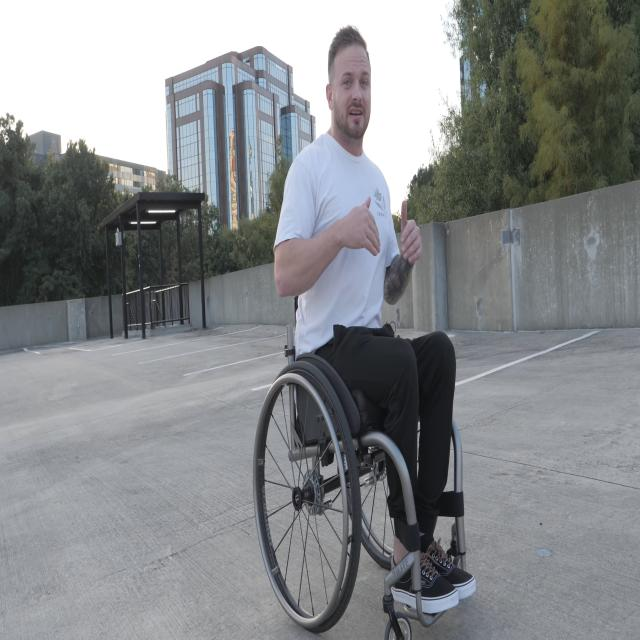wheelchairs: (251, 240, 469, 640)
